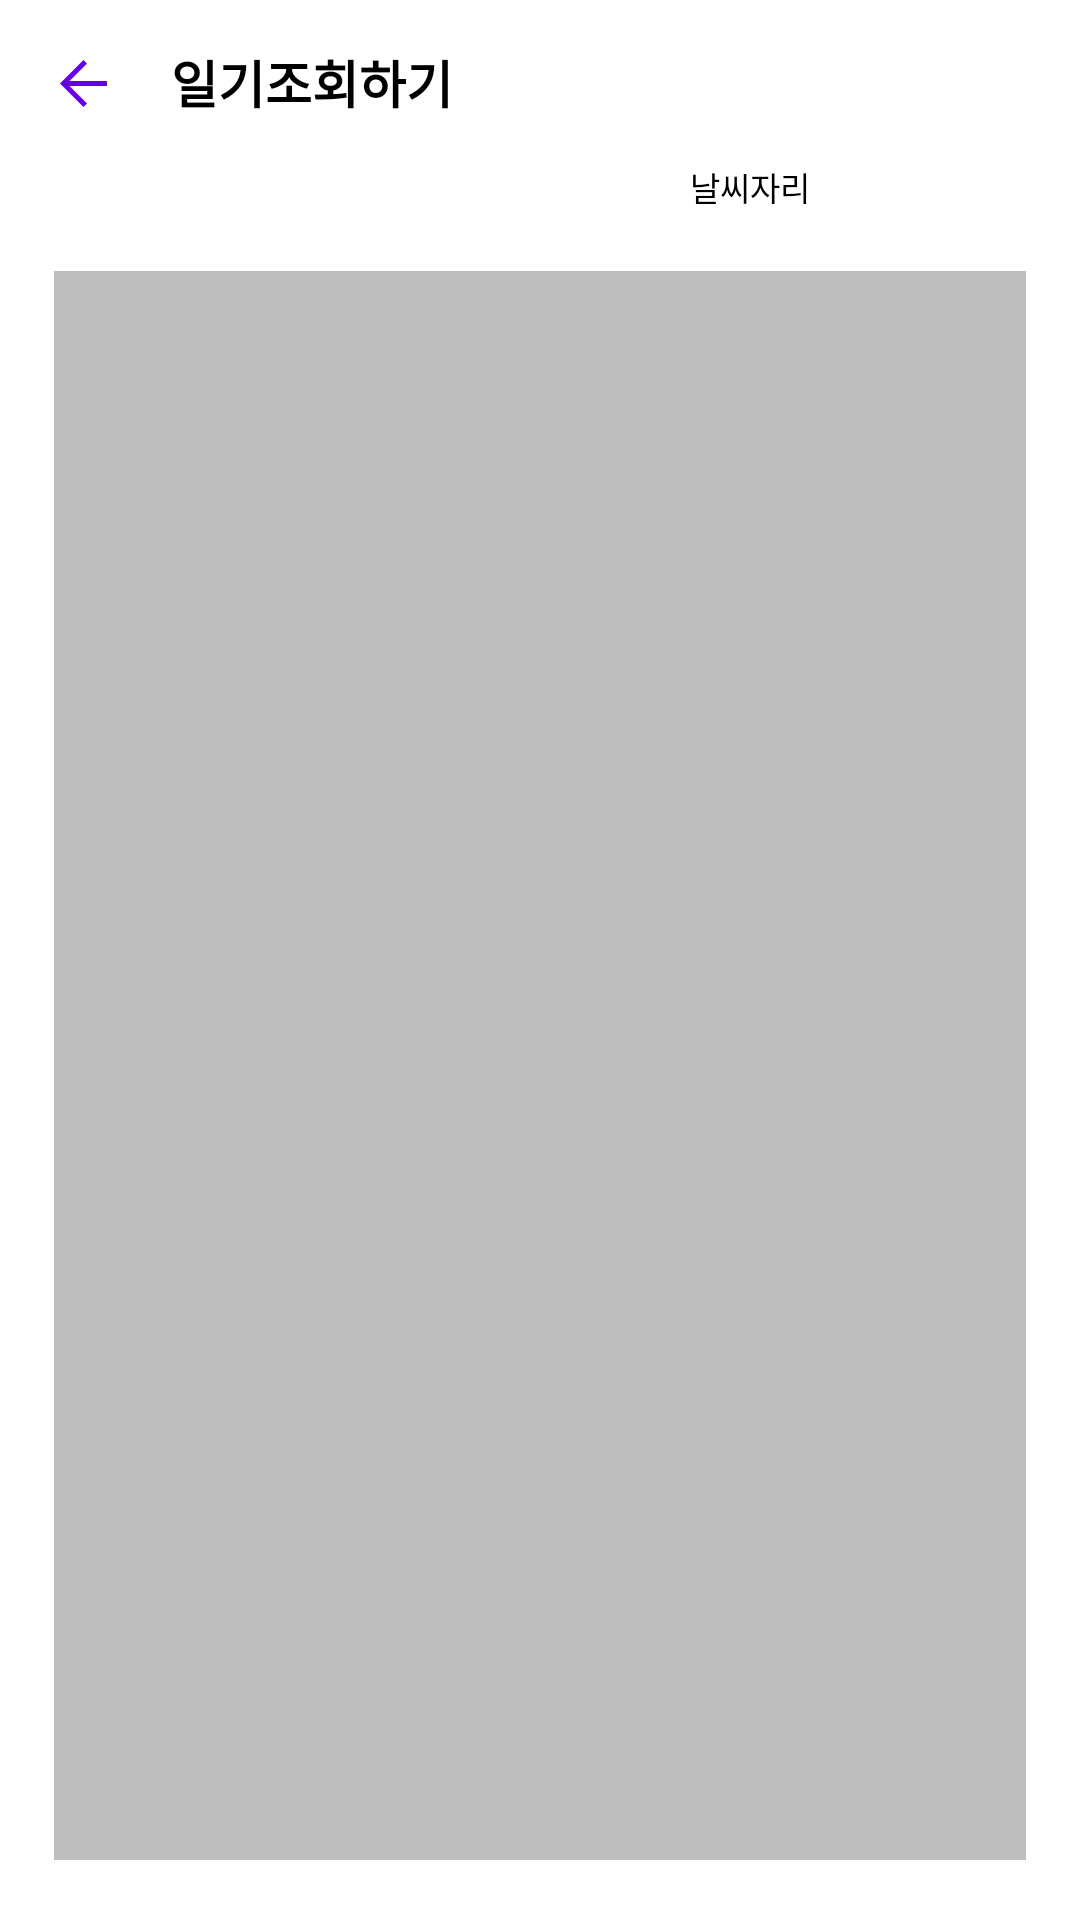

Icons on this 1080w x 1920h Android screen, each with its box as (x1, y1, x2, y2):
back nor: (60, 60, 107, 107)
